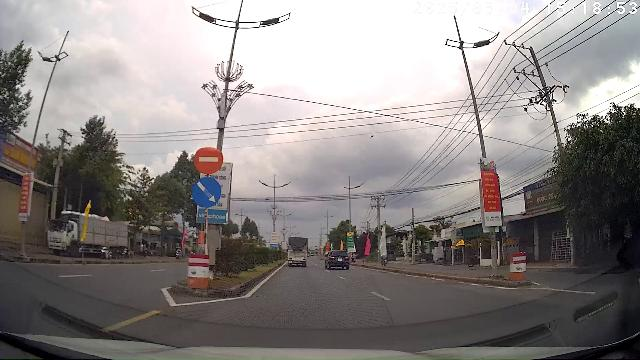102-cam-di-nguoc-chieu: (194, 145, 224, 175)
302a-huong-phai-di-vong-chuong-ngai-vat-1: (190, 176, 222, 207)
